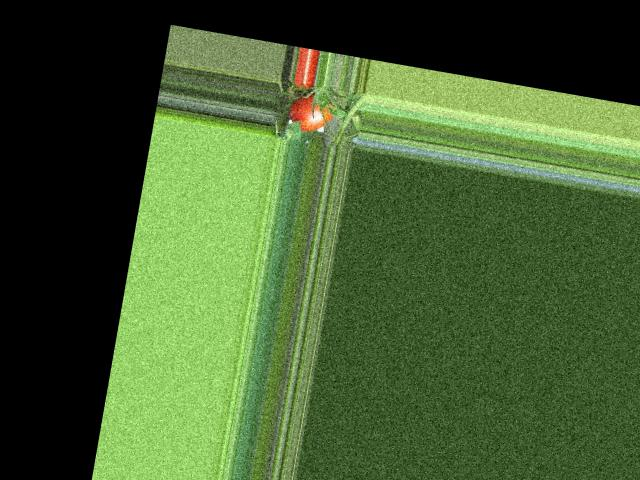tomato: (286, 91, 334, 135)
